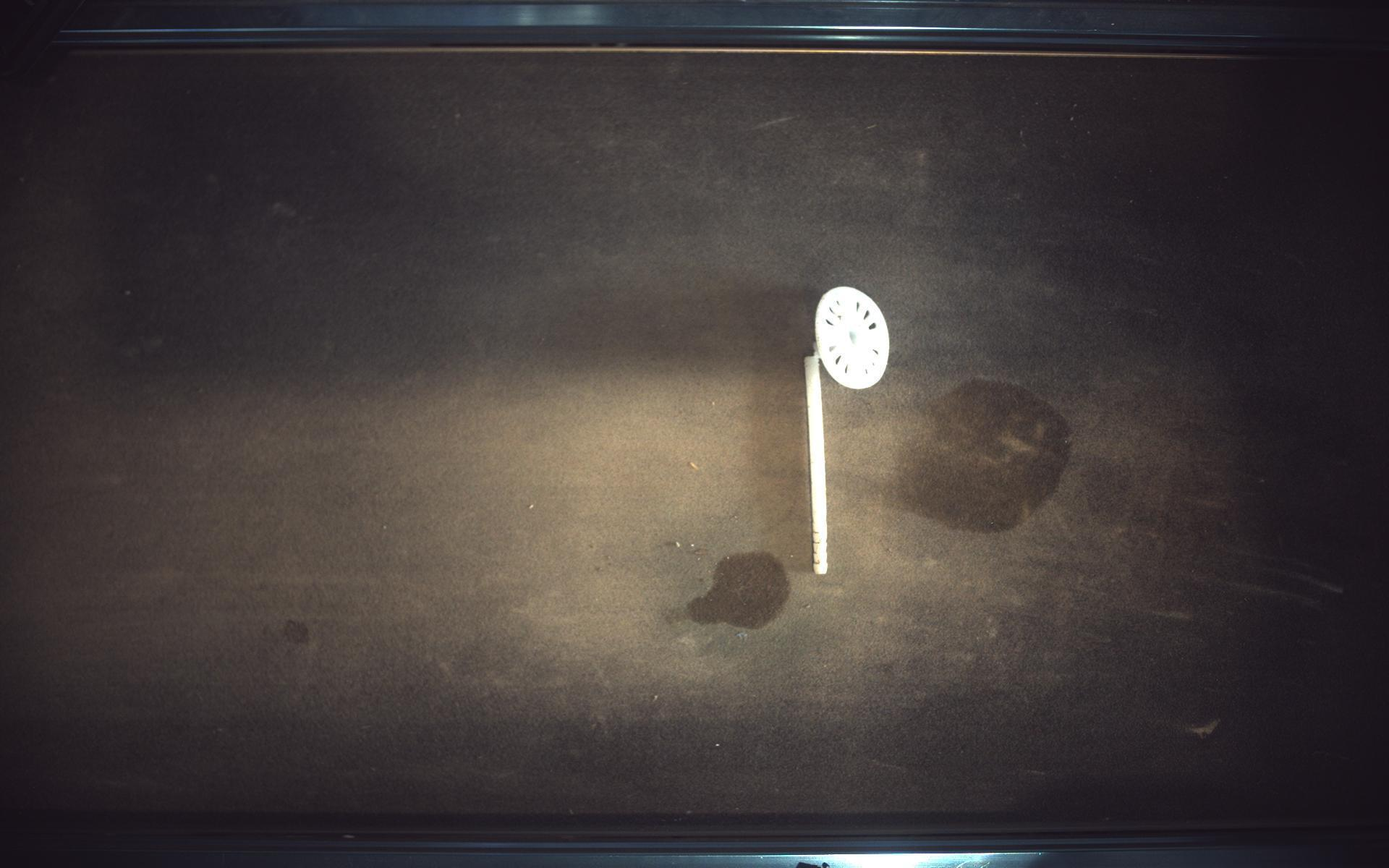plastic: (806, 286, 891, 575)
